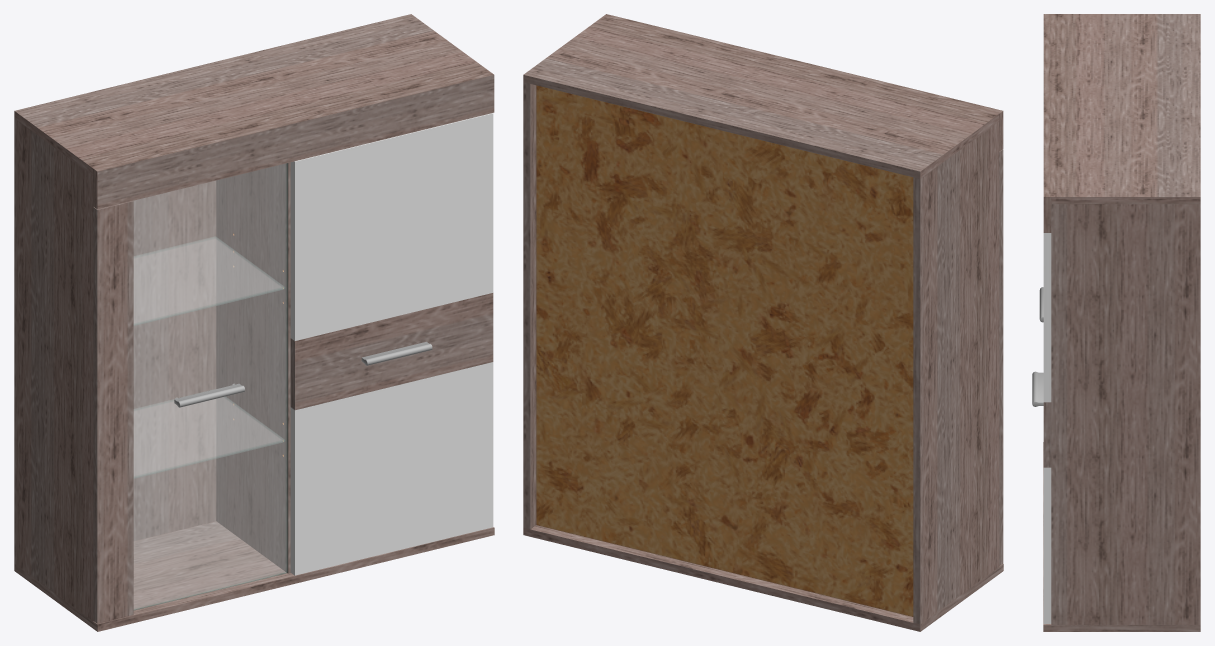
The model's file is wall_cupboard.glb.
The picture shows the model from 3 angles, left to right: view 1: azimuth 30°, elevation 25°; view 2: azimuth 150°, elevation 25°; view 3: azimuth 270°, elevation 25°; orthographic projection. The views are drawn at different scales.
Parts seen in each view (by area): view 1: #CPB0004_Wood_Gray_Wall_Glass_Door, #CPB0004_Door_R, #CPB0004_Door_L, #CPB0004_Wood_Gray_Wall_Glass_Door_#CPB0004_Glass_No_Caustic; view 2: #CPB0004_Wood_Gray_Wall_Glass_Door, #CPB0004_Door_L; view 3: #CPB0004_Wood_Gray_Wall_Glass_Door, #CPB0004_Door_R.
Part boxes in pixels (bbox=[...]): #CPB0004_Wood_Gray_Wall_Glass_Door: bbox=[14, 14, 494, 631]; #CPB0004_Door_R: bbox=[290, 113, 493, 575]; #CPB0004_Door_L: bbox=[93, 163, 287, 623]; #CPB0004_Wood_Gray_Wall_Glass_Door_#CPB0004_Glass_No_Caustic: bbox=[134, 237, 284, 478]; #CPB0004_Wood_Gray_Wall_Glass_Door: bbox=[523, 14, 1003, 631]; #CPB0004_Door_L: bbox=[999, 149, 1003, 565]; #CPB0004_Wood_Gray_Wall_Glass_Door: bbox=[1043, 14, 1200, 631]; #CPB0004_Door_R: bbox=[1032, 233, 1051, 623].
Bounding box in the file's own units: 0.9 × 0.997 × 0.3496.
Materials: 2 (2 with a texture image).
